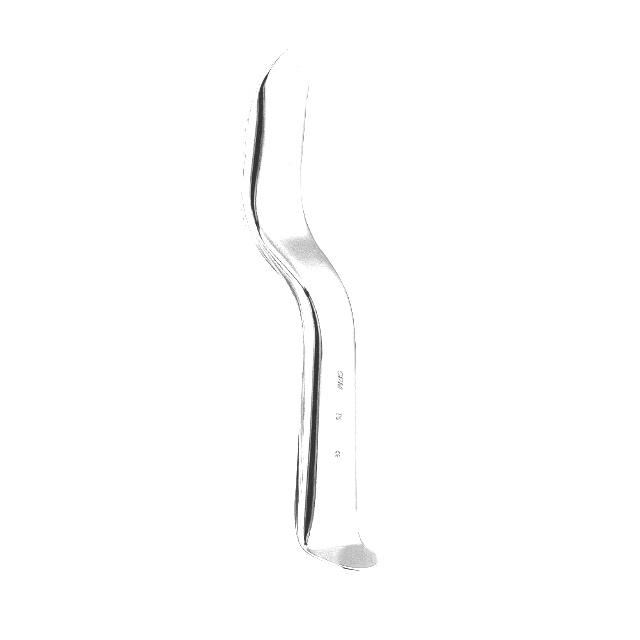separador: (253, 41, 378, 572)
